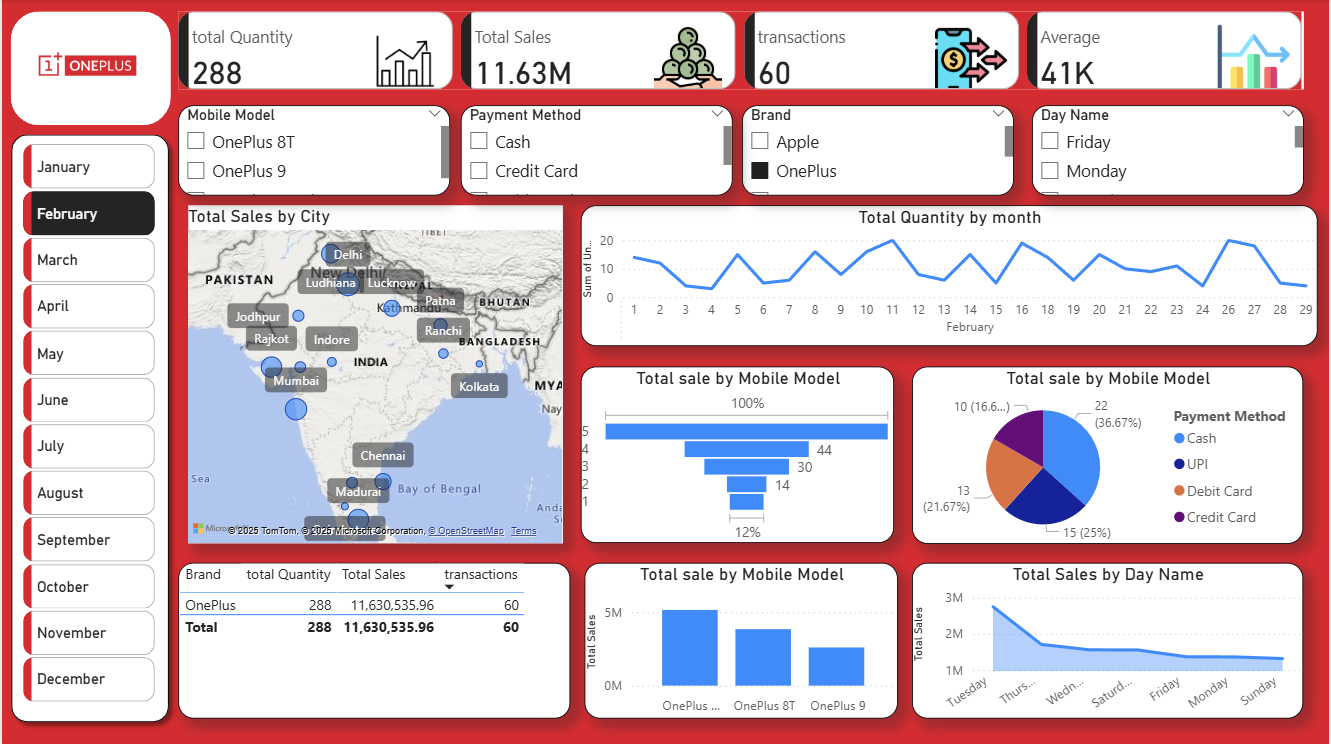

This screenshot's page, from the dashboard's own definition file:
{"tool":"powerbi","page":{"name":"Page 1","canvas":[1280,720],"ordinal":0},"visuals":[{"type":"shape","box":[8.4,12.1,154.4,109.8],"z":0},{"type":"image","box":[0,0,162.9,118.2],"z":1000},{"type":"shape","box":[0,121.9,170.1,585.1],"z":2000},{"type":"advancedSlicerVisual","fields":{"Values":["sales_data.Date.Variation.Date Hierarchy.Month"]},"box":[15.9,135.6,137.1,558.3],"z":3000},{"type":"cardVisual","fields":{"Data":["sales_data.total Quantity","sales_data.Total Sales","sales_data.transactions","sales_data.Average"]},"box":[170,12.5,1086.2,75],"z":4000},{"type":"map","fields":{"Category":["sales_data.City"],"Size":["sales_data.Total Sales"]},"box":[180,198.8,361.2,326.2],"z":5000},{"type":"lineChart","title":"Total Quantity by month","fields":{"Y":["Sum(sales_data.Units Sold)"],"Category":["sales_data.Date.Variation.Date Hierarchy.Month","sales_data.Date.Variation.Date Hierarchy.Day"]},"box":[558.8,198.8,711.2,136.2],"z":6000},{"type":"clusteredColumnChart","title":"Total sale by Mobile Model","fields":{"Category":["sales_data.Mobile Model"],"Y":["sales_data.Total Sales"]},"box":[562.5,543.8,302.5,150],"z":7000},{"type":"pieChart","title":"Total sale by Mobile Model","fields":{"Category":["sales_data.Payment Method"],"Y":["CountNonNull(sales_data.Transaction ID)"]},"box":[878.8,355,377.5,171.2],"z":8000},{"type":"funnel","title":"Total sale by Mobile Model","fields":{"Category":["sales_data.Customer Ratings"],"Y":["Sum(sales_data.Customer Ratings)"]},"box":[558.8,355,302.5,170],"z":9000},{"type":"stackedAreaChart","fields":{"Category":["sales_data.Day Name"],"Y":["sales_data.Total Sales"]},"box":[878.8,543.8,377.5,150],"z":10000},{"type":"tableEx","fields":{"Values":["sales_data.Brand","sales_data.total Quantity","sales_data.Total Sales","sales_data.transactions"]},"box":[170,543.8,378.8,150],"z":11000},{"type":"slicer","fields":{"Values":["sales_data.Mobile Model"]},"box":[170,102.5,262.5,87.5],"z":12000},{"type":"slicer","fields":{"Values":["sales_data.Brand"]},"box":[713.8,102.5,262.5,87.5],"z":13000},{"type":"slicer","fields":{"Values":["sales_data.Payment Method"]},"box":[442.5,102.5,262.5,87.5],"z":14000},{"type":"slicer","fields":{"Values":["sales_data.Day Name"]},"box":[993.8,102.5,262.5,87.5],"z":15000}]}

Visuals, with their boxes in screenshot pixels (x1, y1, x2, y2), scaled from the page's 1280x720 canvas onto the 1331x744 screenshot:
shape: (9, 13, 169, 126)
image: (0, 0, 169, 122)
shape: (0, 126, 177, 731)
advancedSlicerVisual - sales_data.Date.Variation.Date Hierarchy.Month: (17, 140, 159, 717)
cardVisual - sales_data.total Quantity x sales_data.Total Sales: (177, 13, 1306, 90)
map - sales_data.City x sales_data.Total Sales: (187, 205, 563, 542)
"Total Quantity by month" lineChart: (581, 205, 1321, 346)
"Total sale by Mobile Model" clusteredColumnChart: (585, 562, 899, 717)
"Total sale by Mobile Model" pieChart: (914, 367, 1306, 544)
"Total sale by Mobile Model" funnel: (581, 367, 896, 542)
stackedAreaChart - sales_data.Day Name x sales_data.Total Sales: (914, 562, 1306, 717)
tableEx - sales_data.Brand x sales_data.total Quantity: (177, 562, 571, 717)
slicer - sales_data.Mobile Model: (177, 106, 450, 196)
slicer - sales_data.Brand: (742, 106, 1015, 196)
slicer - sales_data.Payment Method: (460, 106, 733, 196)
slicer - sales_data.Day Name: (1033, 106, 1306, 196)
